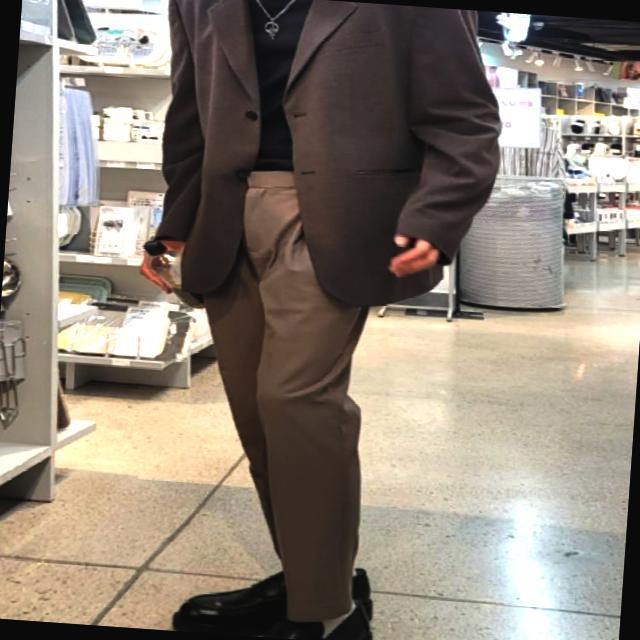blazer: (143, 0, 508, 314)
slacks: (168, 167, 395, 623)
